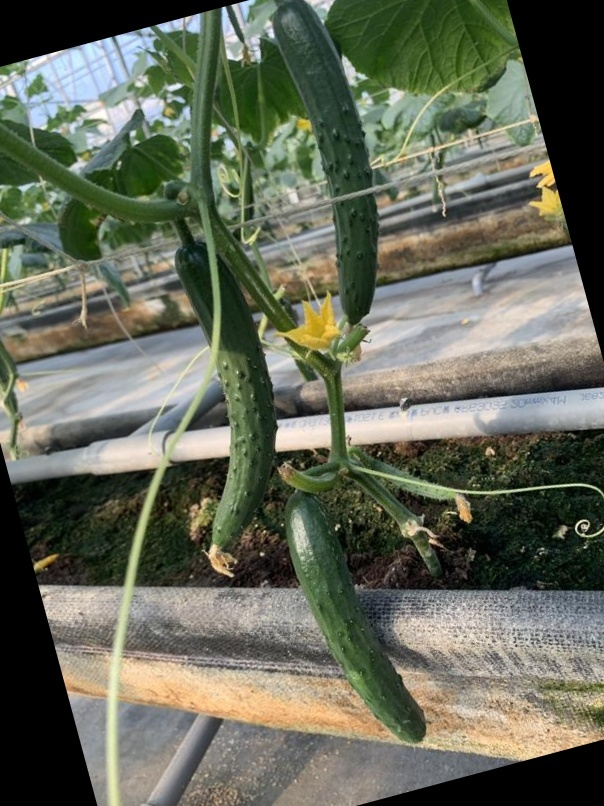mature: (262, 0, 380, 320), (159, 240, 280, 547), (284, 491, 426, 736)
